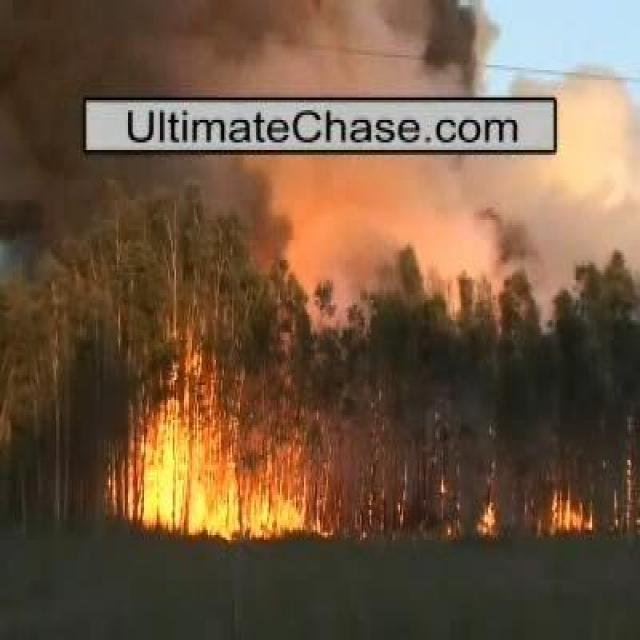fire: (146, 400, 228, 526)
smoke: (96, 0, 480, 95), (248, 158, 535, 255)
